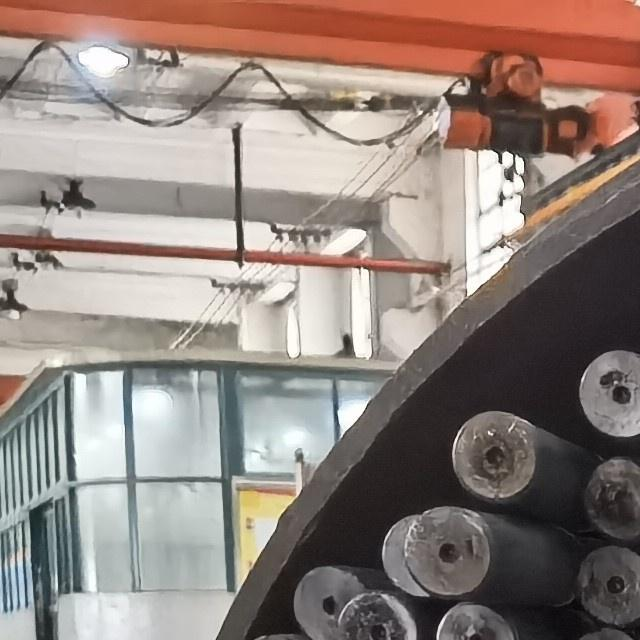tool: (449, 409, 539, 508), (405, 506, 490, 599), (581, 347, 640, 438), (292, 570, 366, 636), (580, 546, 640, 626), (384, 521, 448, 595), (587, 456, 640, 540), (335, 592, 417, 640), (435, 602, 521, 640)
